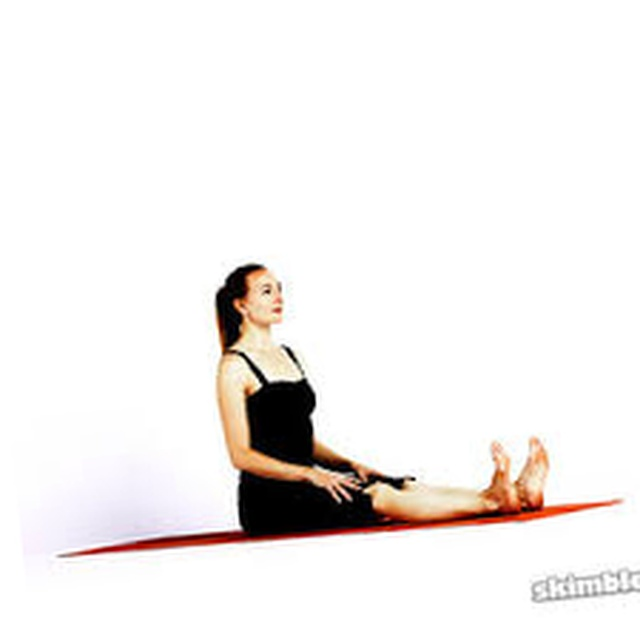Staff_Pose: (213, 263, 551, 538)
